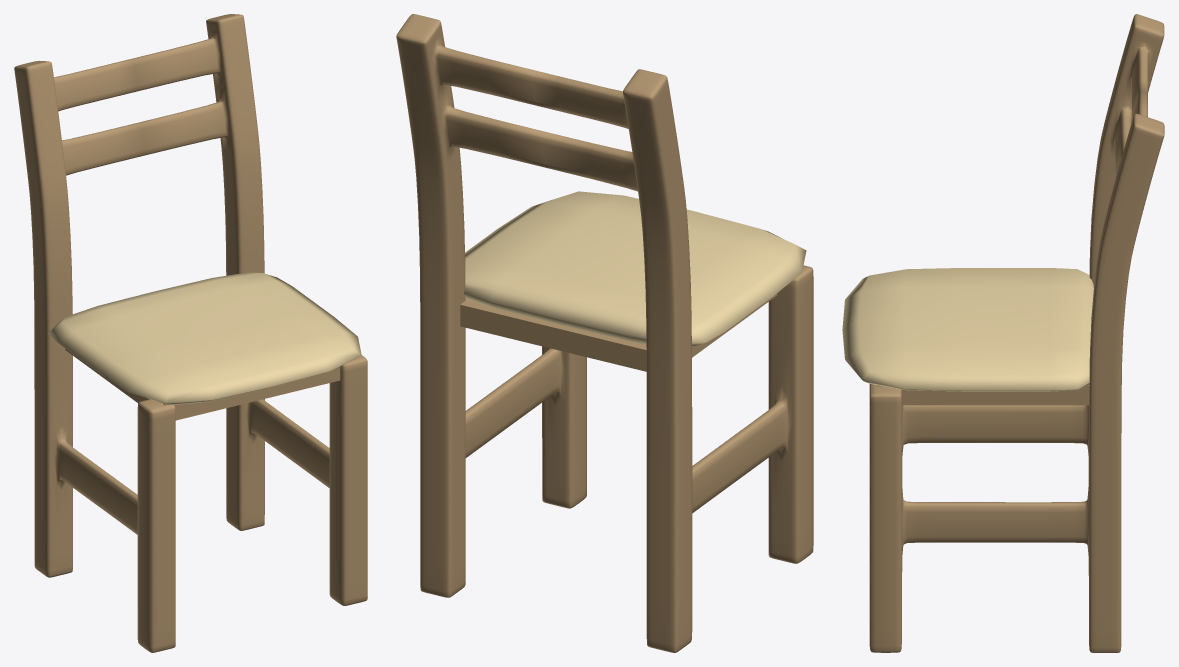
Rendered from puutuoli.fbx.
3 views of the same model, side by side, from view 1: azimuth 30°, elevation 25°; view 2: azimuth 150°, elevation 25°; view 3: azimuth 270°, elevation 25° (orthographic). The views are drawn at different scales.
Visible parts, largest first — view 1: tuoli, tyyny; view 2: tuoli, tyyny; view 3: tuoli, tyyny.
Part boxes in pixels (<box>): tuoli: <box>14,14,367,652</box>; tyyny: <box>48,272,361,405</box>; tuoli: <box>396,14,813,652</box>; tyyny: <box>464,191,806,346</box>; tuoli: <box>869,14,1164,652</box>; tyyny: <box>842,268,1094,391</box>.
Bounding box in the file's own units: 49.57 × 100 × 55.5.
